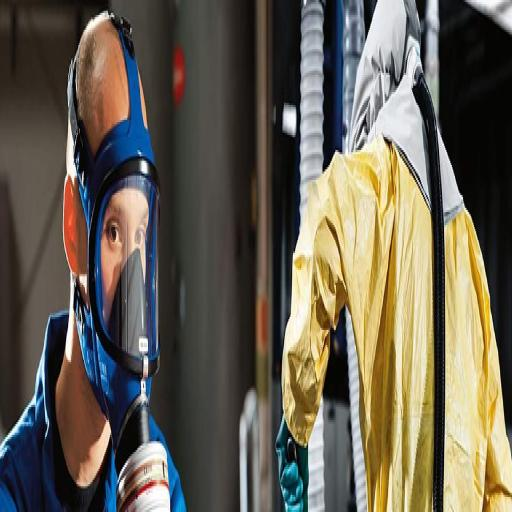mask: (71, 148, 177, 512)
